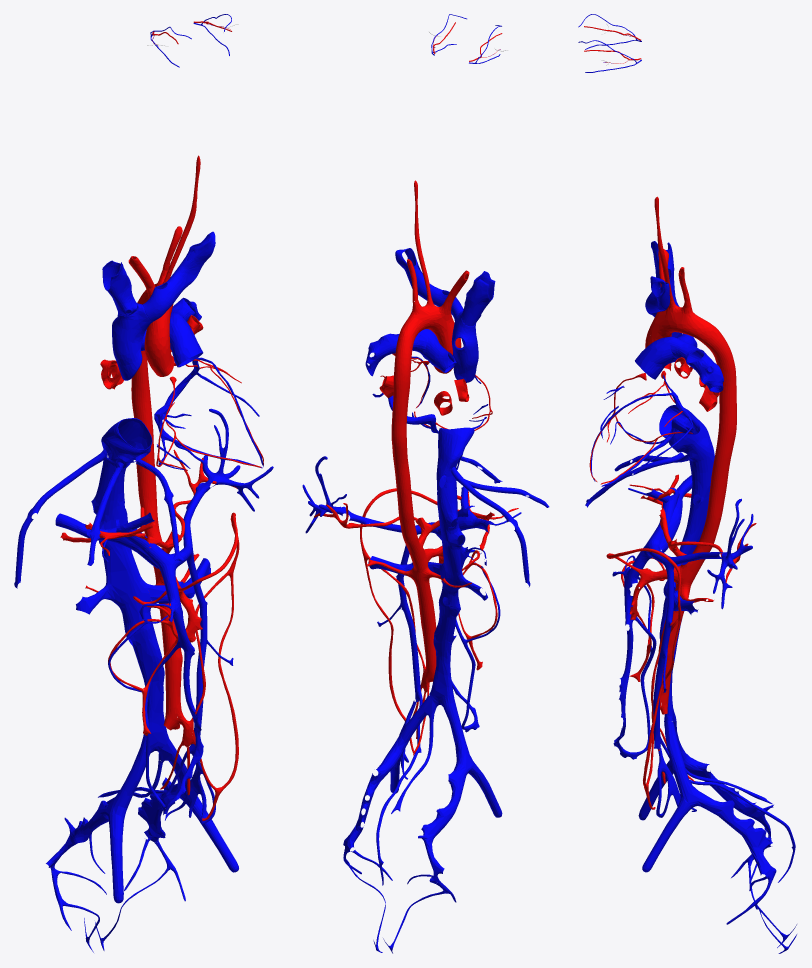
Rendered from vasculature.glb.
The picture shows the model from 3 angles, left to right: view 1: azimuth 30°, elevation 25°; view 2: azimuth 150°, elevation 25°; view 3: azimuth 270°, elevation 25°; orthographic projection. The views are drawn at different scales.
Parts seen in each view (by area): view 1: VH_M_inferior_vena_cava_b, VH_M_descending_aorta_b, VH_M_superior_mesenteric_vein, VH_M_inferior_vena_cava_a, VH_M_splenic_vein, VH_M_brachiocephalic_vein_L, VH_M_superior_vena_cava, VH_M_marginal_artery_of_Drummond, VH_M_descending_aorta_a, VH_M_inferior_mesenteric_vein, VH_M_brachiocephalic_vein_R, VH_M_pulmonary_trunk (+18 smaller); view 2: VH_M_inferior_vena_cava_b, VH_M_descending_aorta_b, VH_M_descending_aorta_a, VH_M_inferior_vena_cava_a, VH_M_internal_iliac_vein_R, VH_M_aortic_arch, VH_M_superior_vena_cava, VH_M_splenic_vein, VH_M_brachiocephalic_vein_R, VH_M_brachiocephalic_vein_L, VH_M_internal_iliac_vein_L, VH_M_marginal_artery_of_Drummond (+8 smaller); view 3: VH_M_descending_aorta_a, VH_M_descending_aorta_b, VH_M_inferior_vena_cava_b, VH_M_inferior_vena_cava_a, VH_M_internal_iliac_vein_L, VH_M_aortic_arch, VH_M_splenic_vein, VH_M_superior_mesenteric_vein, VH_M_pulmonary_artery_L, VH_M_inferior_mesenteric_vein, VH_M_marginal_artery_of_Drummond, VH_M_internal_iliac_vein_R (+12 smaller).
Part boxes in pixels (x1,y1,x2,y2): VH_M_inferior_vena_cava_b: [91, 474, 169, 753]; VH_M_descending_aorta_b: [136, 459, 182, 730]; VH_M_superior_mesenteric_vein: [158, 564, 203, 812]; VH_M_inferior_vena_cava_a: [101, 418, 152, 482]; VH_M_splenic_vein: [170, 408, 273, 568]; VH_M_brachiocephalic_vein_L: [142, 231, 215, 321]; VH_M_superior_vena_cava: [112, 303, 152, 380]; VH_M_marginal_artery_of_Drummond: [179, 512, 239, 820]; VH_M_descending_aorta_a: [131, 298, 154, 461]; VH_M_inferior_mesenteric_vein: [186, 548, 207, 755]; VH_M_brachiocephalic_vein_R: [102, 260, 137, 315]; VH_M_pulmonary_trunk: [169, 313, 203, 367]; VH_M_inferior_vena_cava_b: [429, 489, 465, 707]; VH_M_descending_aorta_b: [396, 486, 436, 682]; VH_M_descending_aorta_a: [391, 343, 412, 489]; VH_M_inferior_vena_cava_a: [436, 427, 474, 493]; VH_M_internal_iliac_vein_R: [418, 762, 468, 883]; VH_M_aortic_arch: [397, 304, 459, 349]; VH_M_superior_vena_cava: [451, 311, 478, 382]; VH_M_splenic_vein: [302, 456, 440, 534]; VH_M_brachiocephalic_vein_R: [461, 271, 495, 326]; VH_M_brachiocephalic_vein_L: [395, 248, 463, 320]; VH_M_internal_iliac_vein_L: [343, 752, 399, 853]; VH_M_marginal_artery_of_Drummond: [360, 488, 437, 753]; VH_M_descending_aorta_a: [709, 334, 736, 488]; VH_M_descending_aorta_b: [657, 485, 726, 714]; VH_M_inferior_vena_cava_b: [659, 470, 712, 722]; VH_M_inferior_vena_cava_a: [659, 405, 714, 472]; VH_M_internal_iliac_vein_L: [696, 791, 776, 881]; VH_M_aortic_arch: [647, 306, 721, 348]; VH_M_splenic_vein: [645, 498, 753, 609]; VH_M_superior_mesenteric_vein: [613, 545, 651, 753]; VH_M_pulmonary_artery_L: [670, 338, 723, 392]; VH_M_inferior_mesenteric_vein: [653, 561, 674, 749]; VH_M_marginal_artery_of_Drummond: [606, 548, 681, 809]; VH_M_internal_iliac_vein_R: [684, 757, 773, 847].
Size of the model in its own units: 0.2361 by 0.8718 by 0.1874.
